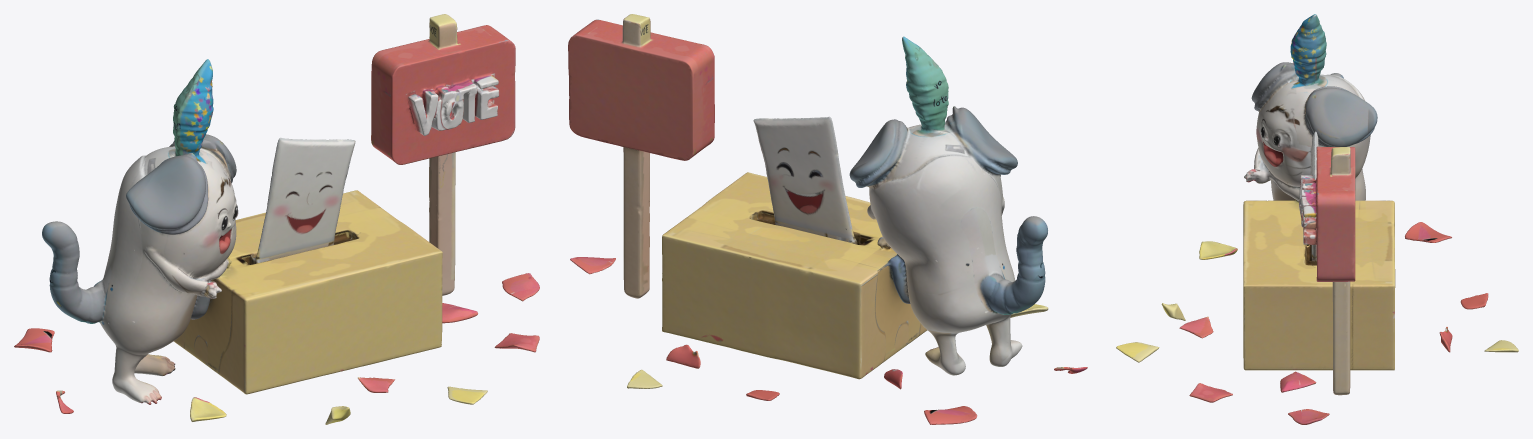
Rendered from vote.glb.
3 views of the same model, side by side, from view 1: azimuth 30°, elevation 25°; view 2: azimuth 150°, elevation 25°; view 3: azimuth 270°, elevation 25° (orthographic). The views are drawn at different scales.
Size of the model in its own units: 65106 by 40990 by 52071.
Materials: 1 (1 with a texture image).
